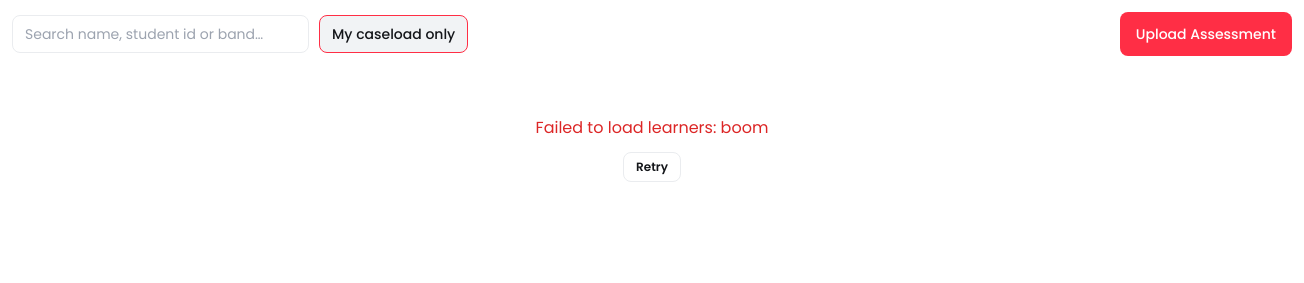
Scenario: UT-9.10: a failed request can be retried into a recovery
This screenshot has width=1304, height=283.
Expected: the text "Failed to load learners: boom" is shown, [536,116,768,140]
Click the button "Retry". click: (652, 167)
box: [623,152,681,182]
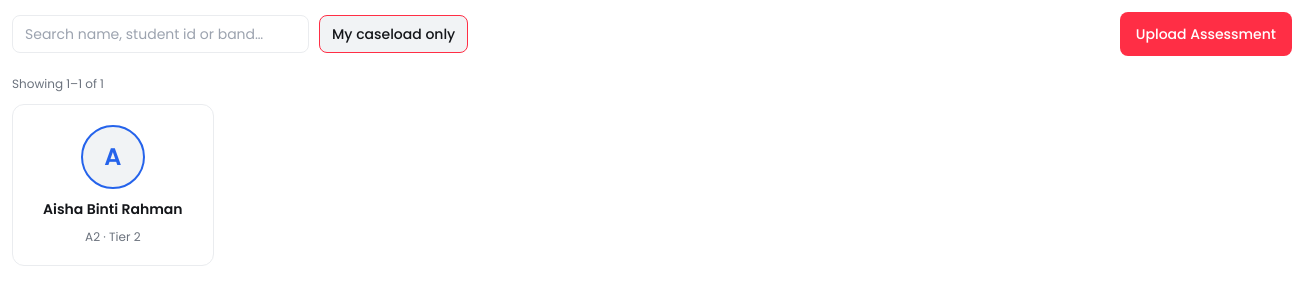
Expected: the text "Aisha Binti Rahman" is shown, [43,199,183,219]
Expected: the text "Failed to load learners" is gone
